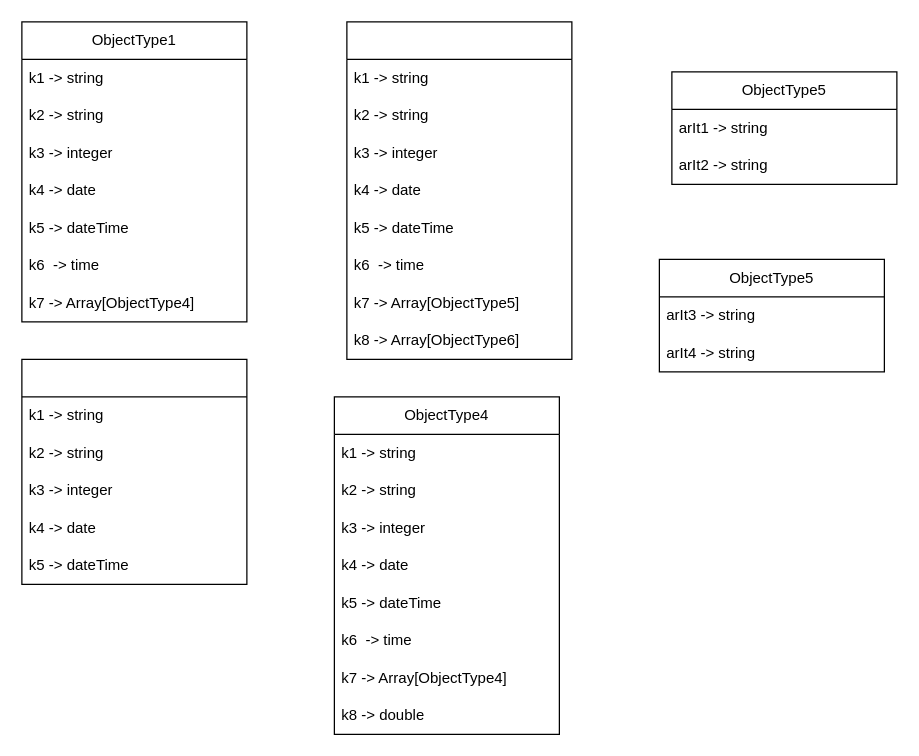
Some shapes in this 919 by 756 pixel diagram are drawn without their labels. The box of each missing label's shape, as (x1, y1, x2, y2) in pixels:
ObjectType2: (346, 21, 572, 359)
ObjectType3: (21, 358, 247, 584)
